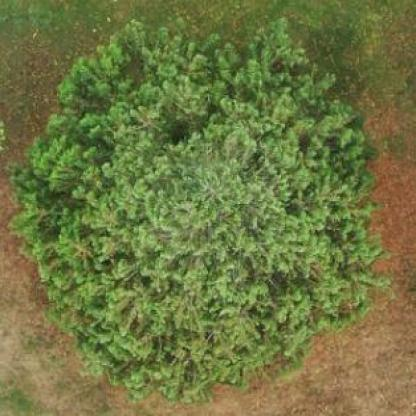Coniferous Tree: (25, 25, 384, 381)
